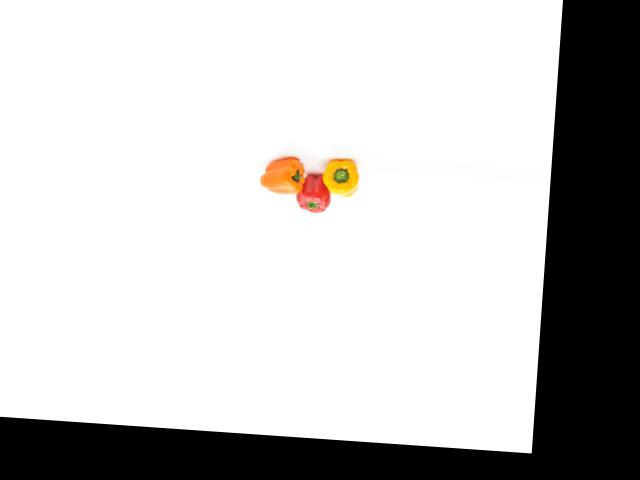bell_pepper: (316, 156, 362, 199)
